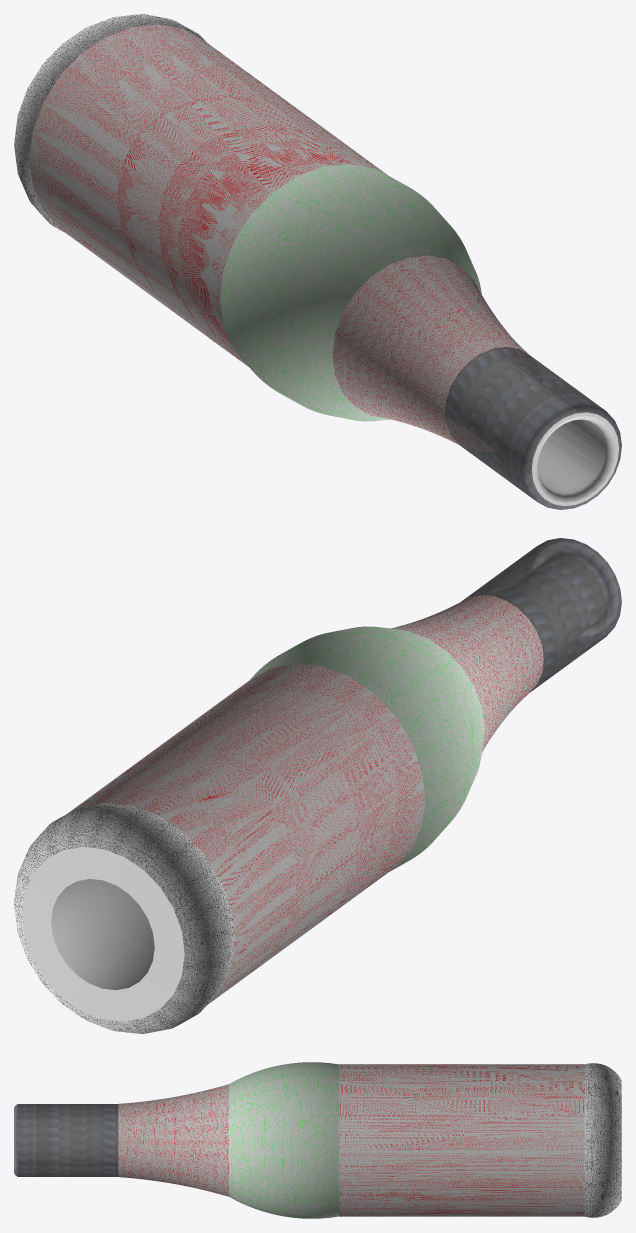
File: model_align.obj
The picture shows the model from 3 angles, top to bottom: view 1: azimuth 30°, elevation 25°; view 2: azimuth 150°, elevation 25°; view 3: azimuth 270°, elevation 25°; orthographic projection. The views are drawn at different scales.
Visible parts, largest first — view 1: mesh2_mesh2-geometry; view 2: mesh2_mesh2-geometry; view 3: mesh2_mesh2-geometry.
Part boxes in pixels (bbox=[...]): mesh2_mesh2-geometry: bbox=[14, 14, 621, 509]; mesh2_mesh2-geometry: bbox=[14, 538, 621, 1033]; mesh2_mesh2-geometry: bbox=[14, 1062, 621, 1218].
Size of the model in its own units: 0.057 by 0.057 by 0.2204.
